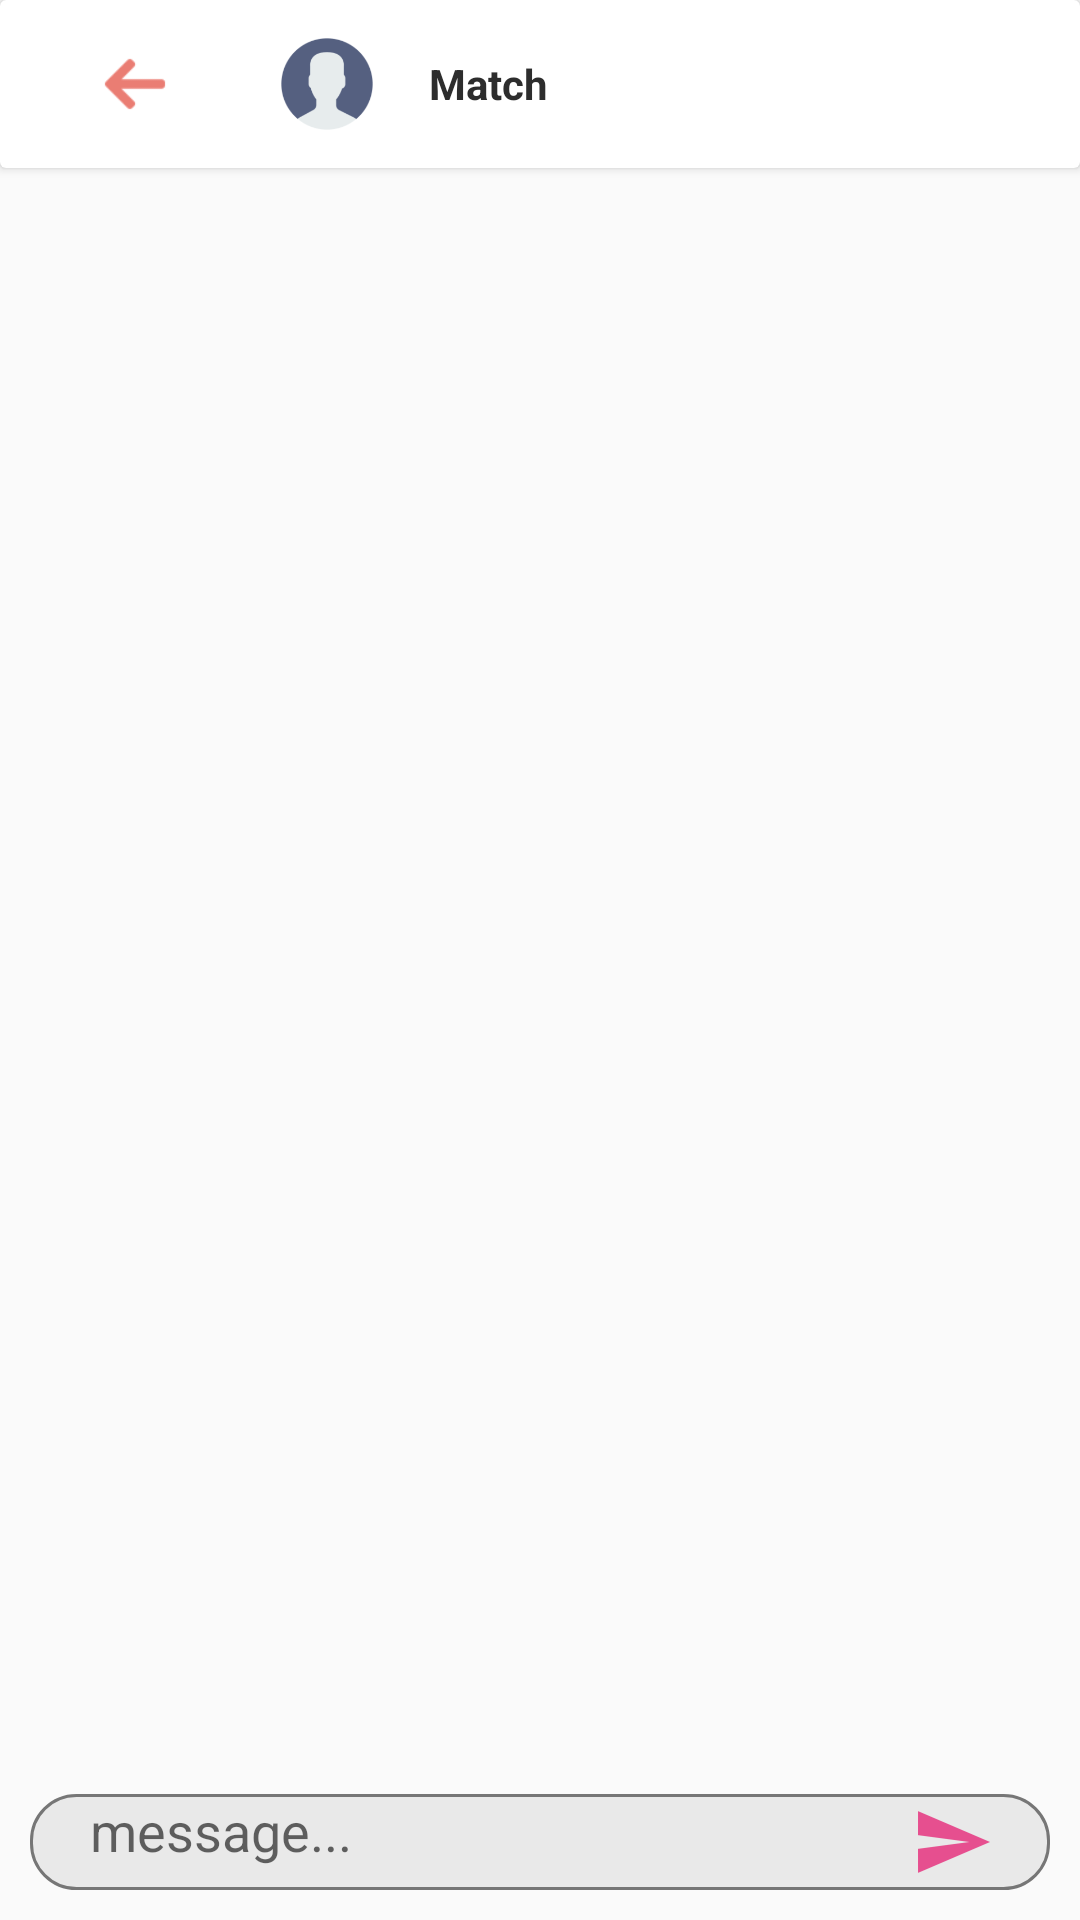

Locate icon controls on the screen. Image size 1080px×1920px, boxes as box(x1, y1, x2, y2).
back: box(105, 59, 165, 109)
send: box(858, 1794, 1050, 1890)
user: box(281, 38, 373, 119)
